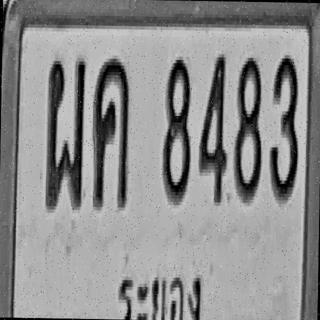A04: (91, 55, 130, 210)
A28: (44, 54, 86, 210)
N03: (268, 53, 299, 202)
N04: (197, 48, 228, 204)
N08: (161, 54, 192, 204), (232, 54, 263, 203)
P53: (112, 256, 204, 320)
